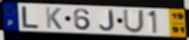1: (147, 10, 159, 35)
6: (73, 8, 93, 31)
J: (99, 9, 116, 32)
K: (44, 6, 64, 31)
L: (21, 6, 40, 30)
U: (122, 9, 145, 34)
